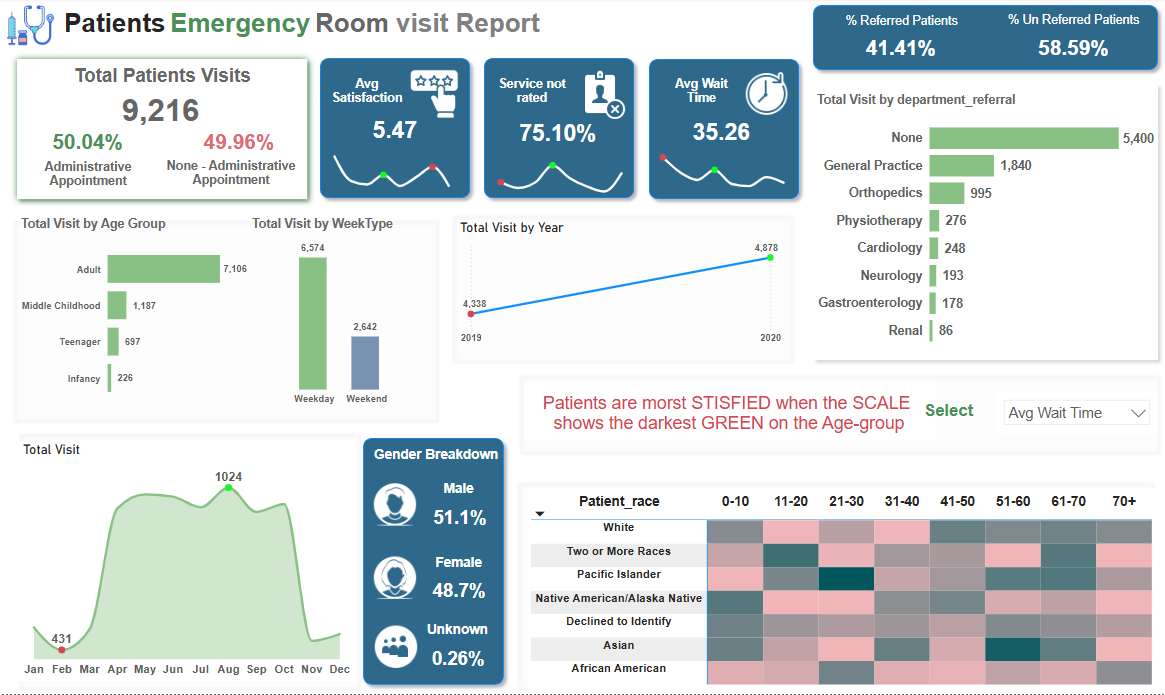

Layout of this report page (visuals, bound fields, positions):
{"tool":"powerbi","page":{"name":"Page 1","canvas":[1500,890],"ordinal":0},"visuals":[{"type":"shape","box":[459.1,553.7,198.2,333.8],"z":0},{"type":"shape","box":[18.1,545.9,452.1,343.2],"z":1000},{"type":"shape","box":[654.7,608.7,829.9,281.3],"z":2000},{"type":"shape","box":[657.3,471.9,837.6,116.4],"z":3000},{"type":"shape","box":[1034.5,101,459.1,370.8],"z":4000},{"type":"shape","box":[571.6,267.1,451.6,203.9],"z":5000},{"type":"shape","box":[10.3,273.5,558.7,273.5],"z":6000},{"type":"shape","box":[824.5,69.7,210.3,197.4],"z":7000},{"type":"shape","box":[614.2,68.4,210.3,197.4],"z":8000},{"type":"shape","box":[403.9,68.4,210.3,197.4],"z":9000},{"type":"shape","box":[16.8,69.7,389.7,197.4],"z":10000},{"type":"card","fields":{"Values":["Measures Table.Total Patients"]},"box":[70.9,116.8,279.4,51.3],"z":11000},{"type":"card","fields":{"Values":["Measures Table.% Administrative Schedule"]},"box":[64.4,168,103.7,31.6],"z":12000},{"type":"card","fields":{"Values":["Measures Table.% None - Administrative Schedule"]},"box":[256.4,168,104.8,31.6],"z":13000},{"type":"card","fields":{"Values":["Measures Table.Avg Satisfaction"]},"box":[471,149.7,76.1,38.7],"z":14000},{"type":"card","fields":{"Values":["Measures Table.% No Rating"]},"box":[655.3,152.9,125.6,38.2],"z":15000},{"type":"pivotTable","fields":{"Values":["Measures Table.Avg Wait Time"],"Rows":["Hospital ER.patient_race"],"Columns":["Hospital ER.Age Buckets"]},"box":[677.7,627.9,810.7,259.6],"z":16000},{"type":"slicer","fields":{"Values":["Parameter.Parameter"]},"box":[1277.7,503.5,207.2,54.4],"z":17000},{"type":"image","box":[0,0,85.2,69.7],"z":18000},{"type":"actionButton","title":"Patients","box":[85.2,14.2,135.5,40],"z":19000},{"type":"actionButton","title":"Emergency","box":[220.6,14.2,183.2,40],"z":20000},{"type":"actionButton","title":"Room","box":[406.5,14.2,105.8,40],"z":21000},{"type":"actionButton","title":"visit Report","box":[509.7,14.2,207.7,40],"z":22000},{"type":"actionButton","title":"Total Patients Visits","box":[97.9,85.2,227.3,31.6],"z":23000},{"type":"actionButton","title":" Administrative Appointment","box":[42.6,207.3,148.4,42.6],"z":24000},{"type":"actionButton","title":"None - Administrative Appointment","box":[206.2,206.2,186.6,44.7],"z":25000},{"type":"actionButton","title":"Avg Satisfaction","box":[418.1,100.6,109.7,42.6],"z":26000},{"type":"card","fields":{"Values":["Measures Table.Avg Wait Time"]},"box":[870.1,152.9,112.9,34.6],"z":27000},{"type":"image","box":[513.5,85.2,90.3,73.5],"z":28000},{"type":"image","box":[730.3,85.2,81.3,73.5],"z":29000},{"type":"image","box":[949.7,85.2,68.4,73.5],"z":30000},{"type":"actionButton","title":"Service not rated","box":[629.7,100.6,109.7,42.6],"z":31000},{"type":"actionButton","title":"Avg Wait    Time","box":[851.6,100.6,98.1,42.6],"z":32000},{"type":"lineChart","fields":{"Category":["Date.Month"],"Y":["Measures Table.Total Patients","Measures Table.Values Max Point (Month)"]},"box":[385.6,914.8,438.5,84.7],"z":33000},{"type":"lineChart","title":"Total Visit by Year","fields":{"Category":["Date.Year"],"Y":["Measures Table.Total Patients"]},"box":[587.1,282.6,420.6,167.7],"z":34000},{"type":"clusteredBarChart","title":"Total Visit by department_referral","fields":{"Y":["Measures Table.Total Patients"],"Category":["Hospital ER.department_referral"]},"box":[1043.5,121.5,441.2,337.6],"z":35000},{"type":"card","fields":{"Values":["Measures Table.HitMap Caption"]},"box":[673.9,492.3,525.6,74.2],"z":36000},{"type":"columnChart","title":"Total Visit  by WeekType","fields":{"Category":["Date.WeekType"],"Y":["Measures Table.Total Patients"]},"box":[321.3,280,237.4,249],"z":37000},{"type":"clusteredBarChart","title":"Total Visit by Age Group","fields":{"Category":["Hospital ER.Age Group"],"Y":["Measures Table.Total Patients"]},"box":[25.8,280,299.4,249],"z":38000},{"type":"actionButton","title":"Select","box":[1185.5,515.6,78.6,28.7],"z":39000},{"type":"lineChart","title":"Total Visit","fields":{"Category":["Date.Month"],"Y":["Measures Table.Total Patients","Measures Table.Values Max Point (Month)"]},"box":[28.7,567,430.9,308.5],"z":40000},{"type":"image","box":[474.4,608.7,69.1,72.9],"z":41000},{"type":"image","box":[474.4,702.7,69.1,70.3],"z":42000},{"type":"image","box":[475.7,794.1,69.1,70.3],"z":43000},{"type":"actionButton","title":"Gender Breakdown","box":[470.6,572.9,181.6,30.7],"z":44000},{"type":"card","fields":{"Values":["Measures Table.Male %"]},"box":[535.3,647.2,111.9,34.8],"z":45000},{"type":"card","fields":{"Values":["Measures Table.Unknown %"]},"box":[538.4,826.1,103.6,38.4],"z":46000},{"type":"card","fields":{"Values":["Measures Table.Female %"]},"box":[542.2,735.3,97.2,44.8],"z":47000},{"type":"actionButton","title":"Male","box":[555,616.4,70.3,30.7],"z":48000},{"type":"actionButton","title":"Female","box":[555,711,70.3,30.7],"z":49000},{"type":"actionButton","title":"Unknown","box":[544.4,796.9,87.7,30.2],"z":50000},{"type":"areaChart","fields":{"Y":["Measures Table.Avg Satisfaction"],"Category":["Date.Month"]},"box":[418.2,184.1,172.6,67.8],"z":51000},{"type":"lineChart","fields":{"Y":["Measures Table.% No Rating"],"Category":["Date.Month"]},"box":[629.9,189.3,182,71],"z":52000},{"type":"lineChart","fields":{"Y":["Measures Table.Avg Wait Time"],"Category":["Date.Month"]},"box":[837.4,183.9,182,71],"z":53000},{"type":"shape","box":[1034.5,0,459.1,101],"z":55000},{"type":"card","title":"% Referred Patients","fields":{"Values":["Measures Table.% Referred Patients"]},"box":[1049.9,20.5,213.6,70.3],"z":56000},{"type":"card","title":"% Un Referred Patients","fields":{"Values":["Measures Table.% Un Referred Patients"]},"box":[1277.5,19.2,198.2,71.6],"z":56500}]}

Visuals, with their boxes in screenshot pixels (x1, y1, x2, y2), scaled from the page's 1500x890 canvas onto the 1165x695 screenshot:
shape: l=357, t=432, r=511, b=693
shape: l=14, t=426, r=365, b=694
shape: l=508, t=475, r=1153, b=694
shape: l=511, t=369, r=1161, b=459
shape: l=803, t=79, r=1160, b=368
shape: l=444, t=209, r=795, b=368
shape: l=8, t=214, r=442, b=427
shape: l=640, t=54, r=804, b=209
shape: l=477, t=53, r=640, b=208
shape: l=314, t=53, r=477, b=208
shape: l=13, t=54, r=316, b=209
card - Measures Table.Total Patients: l=55, t=91, r=272, b=131
card - Measures Table.% Administrative Schedule: l=50, t=131, r=131, b=156
card - Measures Table.% None - Administrative Schedule: l=199, t=131, r=281, b=156
card - Measures Table.Avg Satisfaction: l=366, t=117, r=425, b=147
card - Measures Table.% No Rating: l=509, t=119, r=606, b=149
pivotTable - Measures Table.Avg Wait Time x Hospital ER.patient_race: l=526, t=490, r=1156, b=693
slicer - Parameter.Parameter: l=992, t=393, r=1153, b=436
image: l=0, t=0, r=66, b=54
"Patients" actionButton: l=66, t=11, r=171, b=42
"Emergency" actionButton: l=171, t=11, r=314, b=42
"Room" actionButton: l=316, t=11, r=398, b=42
"visit Report" actionButton: l=396, t=11, r=557, b=42
"Total Patients Visits" actionButton: l=76, t=67, r=253, b=91
" Administrative Appointment" actionButton: l=33, t=162, r=148, b=195
"None - Administrative Appointment" actionButton: l=160, t=161, r=305, b=196
"Avg Satisfaction" actionButton: l=325, t=79, r=410, b=112
card - Measures Table.Avg Wait Time: l=676, t=119, r=763, b=146
image: l=399, t=67, r=469, b=124
image: l=567, t=67, r=630, b=124
image: l=738, t=67, r=791, b=124
"Service not rated" actionButton: l=489, t=79, r=574, b=112
"Avg Wait    Time" actionButton: l=661, t=79, r=738, b=112
"Total Visit by Year" lineChart: l=456, t=221, r=783, b=352
"Total Visit by department_referral" clusteredBarChart: l=810, t=95, r=1153, b=359
card - Measures Table.HitMap Caption: l=523, t=384, r=932, b=442
"Total Visit  by WeekType" columnChart: l=250, t=219, r=434, b=413
"Total Visit by Age Group" clusteredBarChart: l=20, t=219, r=253, b=413
"Select" actionButton: l=921, t=403, r=982, b=425
"Total Visit" lineChart: l=22, t=443, r=357, b=684
image: l=368, t=475, r=422, b=532
image: l=368, t=549, r=422, b=604
image: l=369, t=620, r=423, b=675
"Gender Breakdown" actionButton: l=365, t=447, r=507, b=471
card - Measures Table.Male %: l=416, t=505, r=503, b=533
card - Measures Table.Unknown %: l=418, t=645, r=499, b=675
card - Measures Table.Female %: l=421, t=574, r=497, b=609
"Male" actionButton: l=431, t=481, r=486, b=505
"Female" actionButton: l=431, t=555, r=486, b=579
"Unknown" actionButton: l=423, t=622, r=491, b=646
areaChart - Measures Table.Avg Satisfaction x Date.Month: l=325, t=144, r=459, b=197
lineChart - Measures Table.% No Rating x Date.Month: l=489, t=148, r=631, b=203
lineChart - Measures Table.Avg Wait Time x Date.Month: l=650, t=144, r=792, b=199
shape: l=803, t=0, r=1160, b=79
"% Referred Patients" card: l=815, t=16, r=981, b=71
"% Un Referred Patients" card: l=992, t=15, r=1146, b=71
